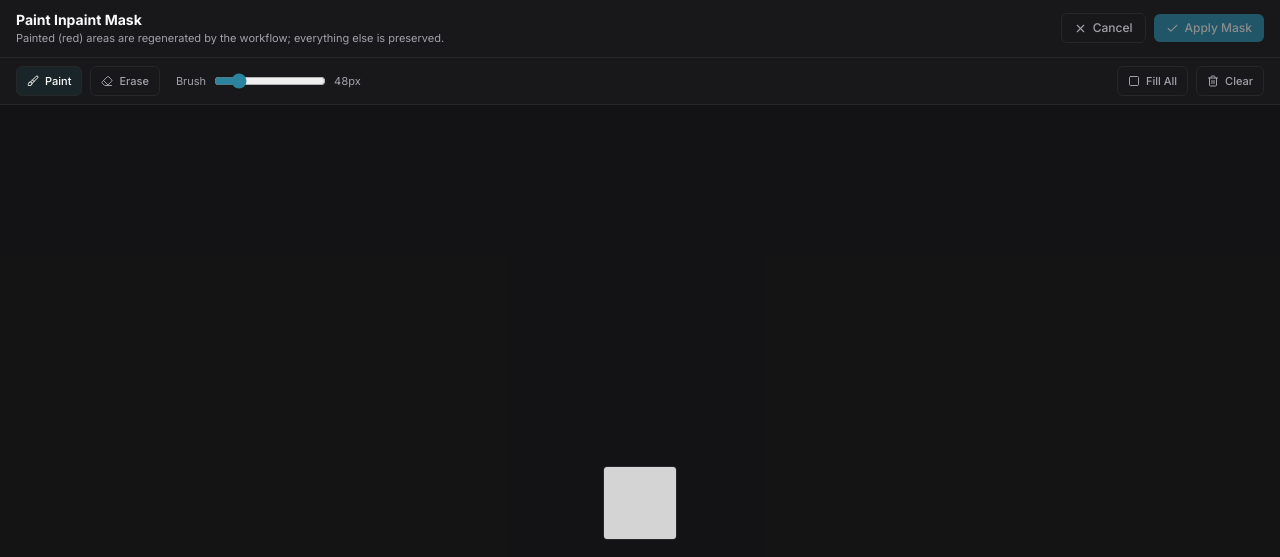
Test: ComfyMaskEditor › clears strokes and disables Apply again
The width and height of the screenshot is (1280, 557).
Click the button "Fill All". click: click(1153, 81)
box: [1117,66,1188,96]
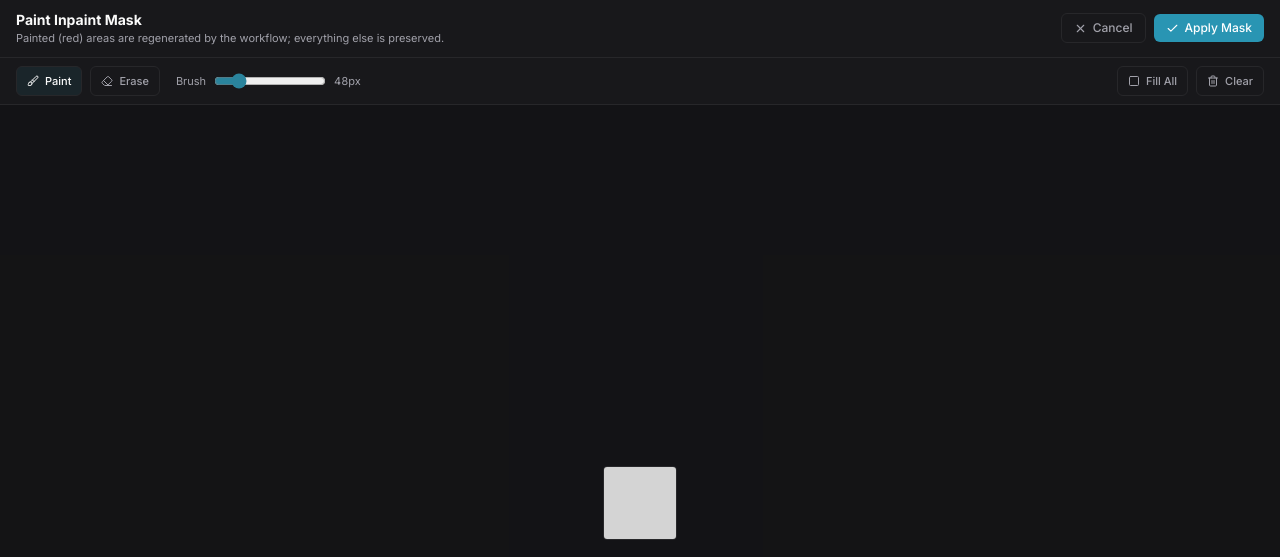
Expected: the button "Apply Mask" is enabled, [1154,14,1264,42]
Click the button "Clear". click: click(1230, 81)
box: [1196,66,1264,96]
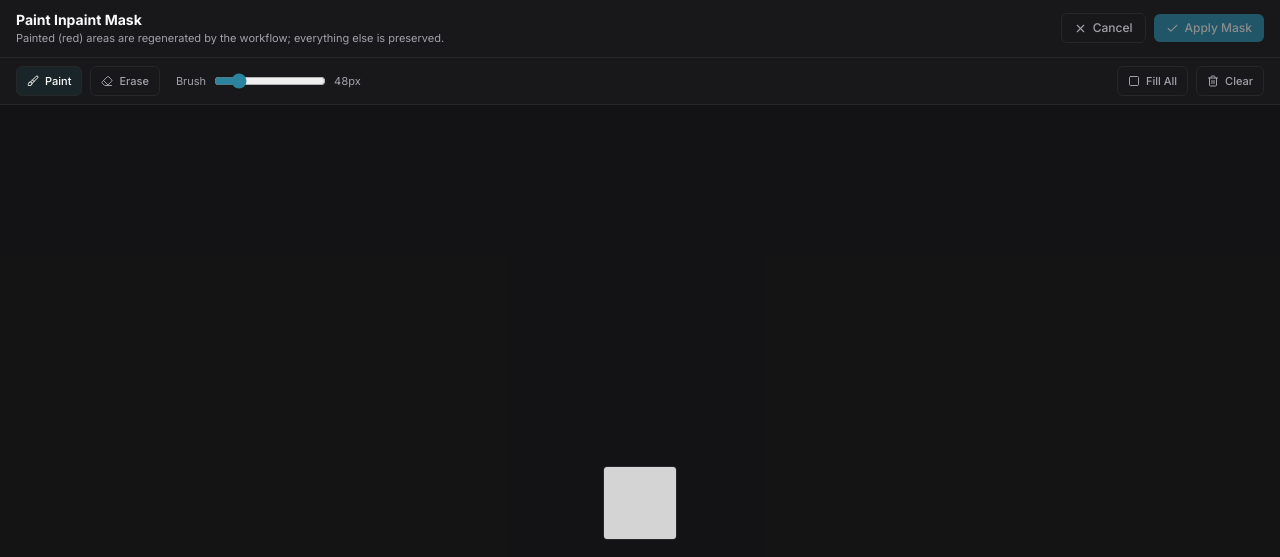
Expected: the button "Apply Mask" is disabled, [1154,14,1264,42]
